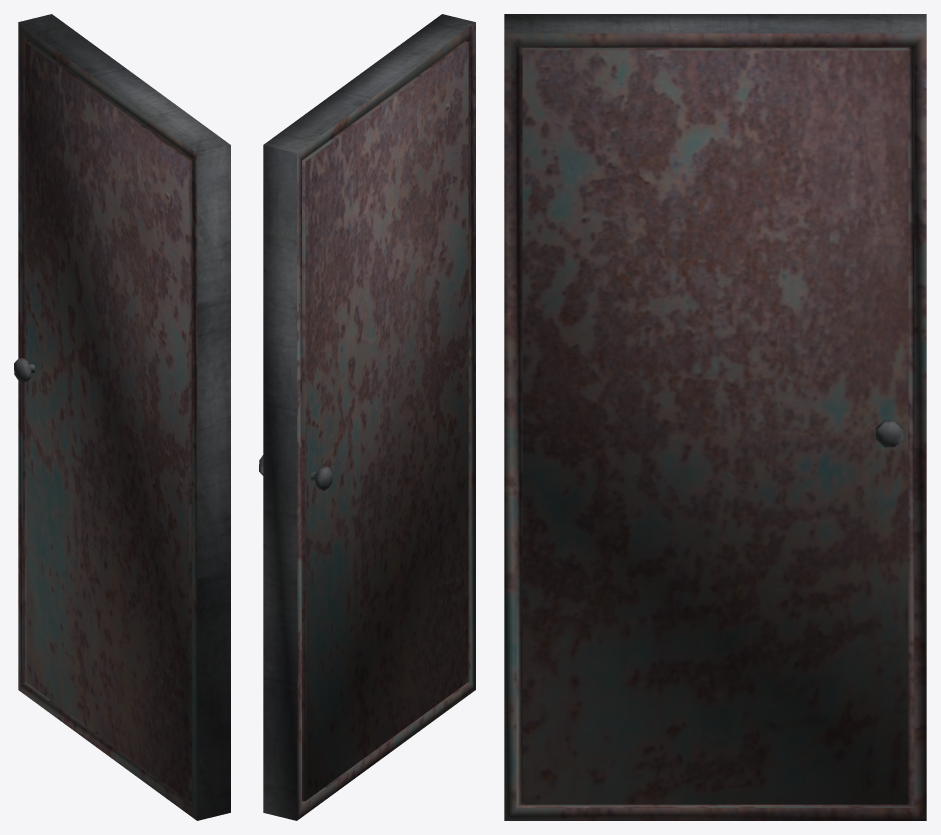
Rendered from door.glb.
The picture shows the model from 3 angles, left to right: view 1: azimuth 30°, elevation 25°; view 2: azimuth 150°, elevation 25°; view 3: azimuth 270°, elevation 25°; orthographic projection. The views are drawn at different scales.
Parts seen in each view (by area): view 1: Cube; view 2: Cube; view 3: Cube.
Boxes of the visible parts, x1,y1,x2,y2 form: Cube: (14, 14, 230, 820); Cube: (259, 14, 475, 820); Cube: (504, 14, 926, 820).
Bounding box in the file's own units: 0.5965 × 5.54 × 2.69.
Materials: 1 (1 with a texture image).
